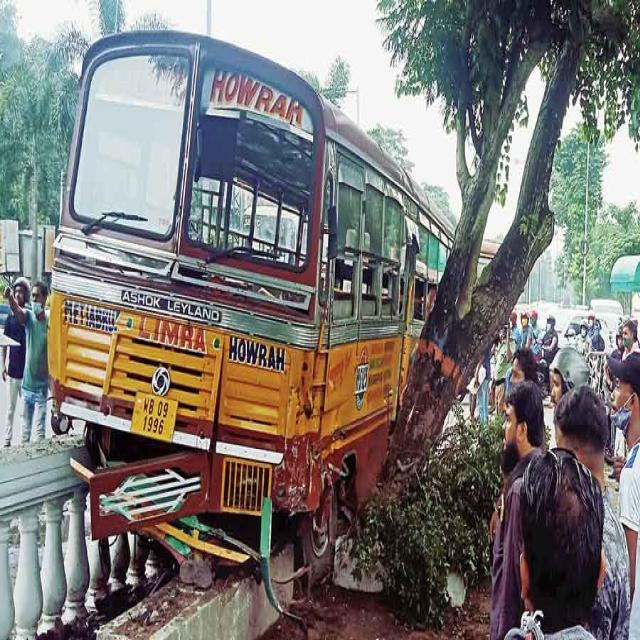accident: (49, 31, 452, 603)
